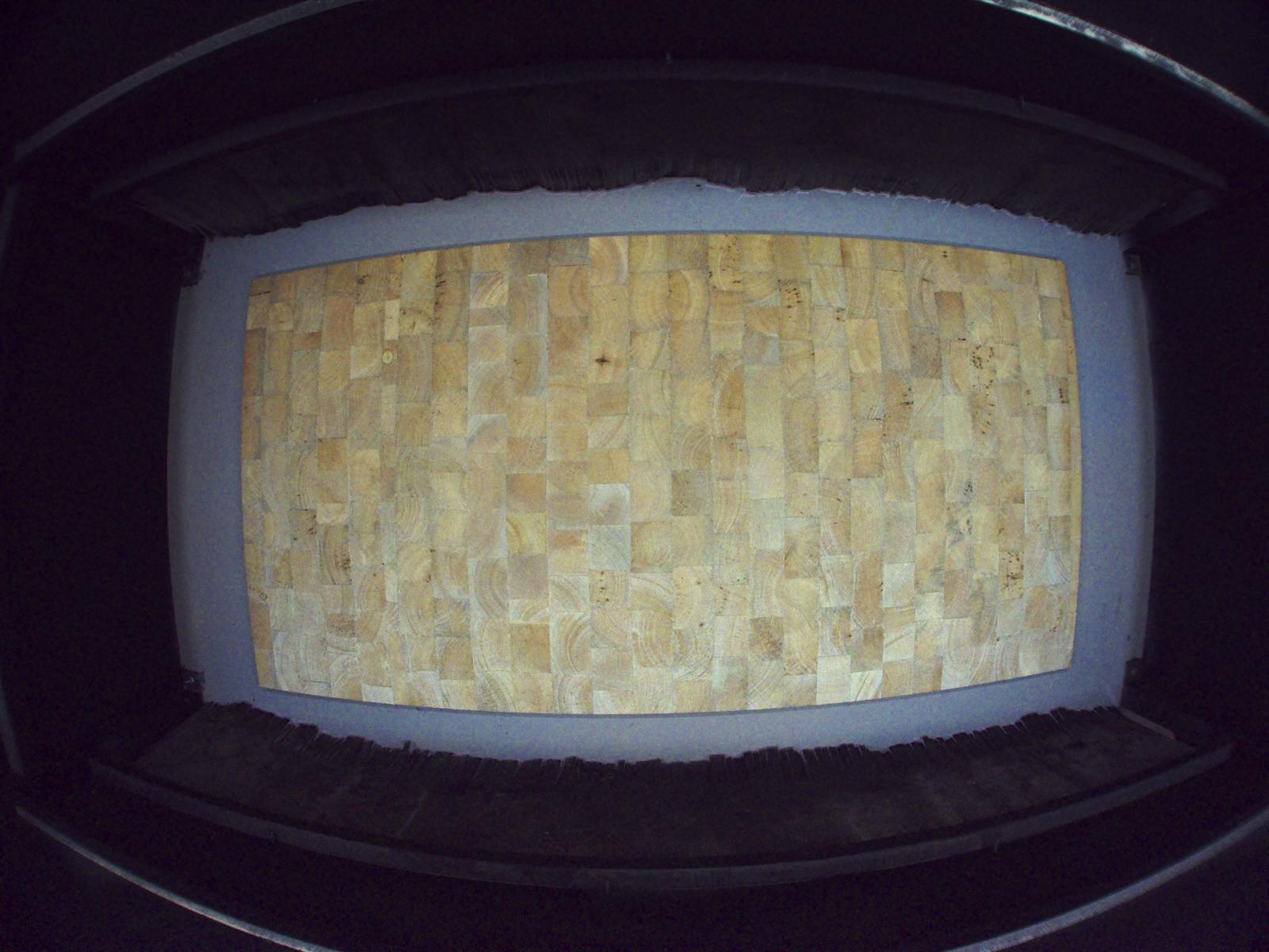sheck_ecuatoriano: (593, 354, 612, 367)
